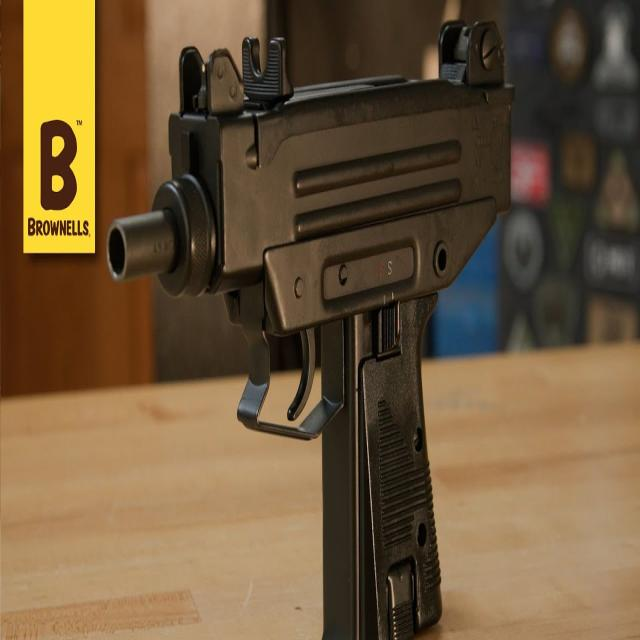SMG: (106, 28, 516, 640)
